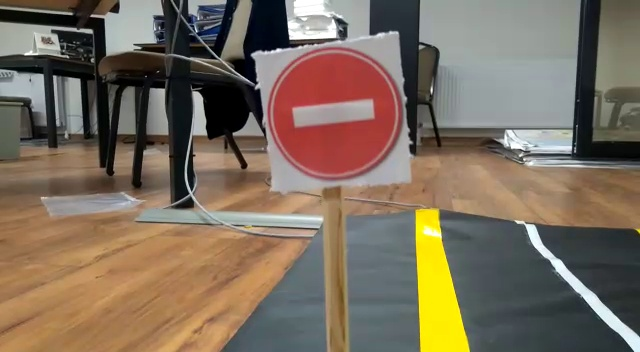girisi_olmayan_yol: (256, 51, 408, 178)
